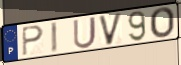9: (126, 10, 147, 43)
I: (50, 21, 59, 54)
O: (148, 7, 176, 40)
P: (21, 25, 46, 58)
U: (72, 16, 98, 51)
V: (97, 12, 124, 48)
